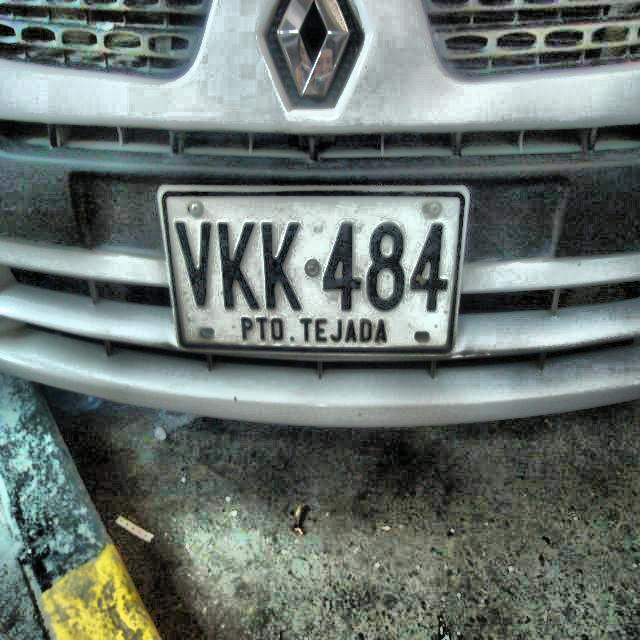4: (319, 218, 366, 314), (406, 220, 452, 316)
8: (363, 220, 409, 316)
K: (214, 220, 262, 314), (259, 220, 307, 314)
Q: (157, 184, 470, 356)
V: (171, 218, 218, 312)
